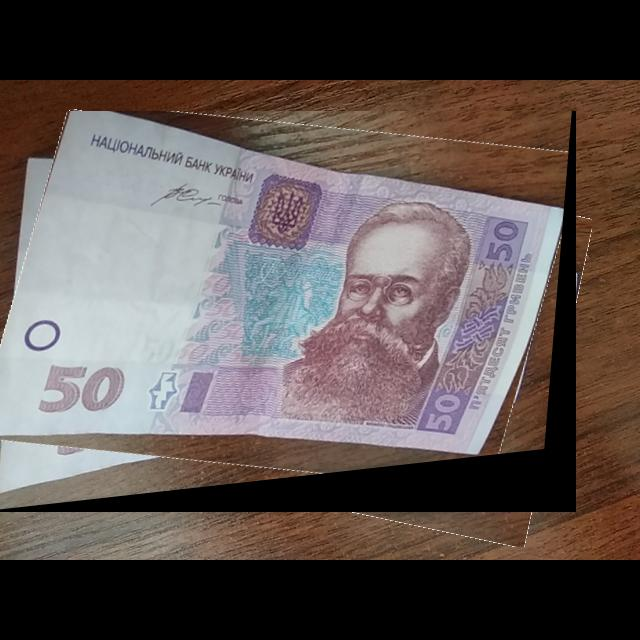50uah: (0, 111, 567, 469)
